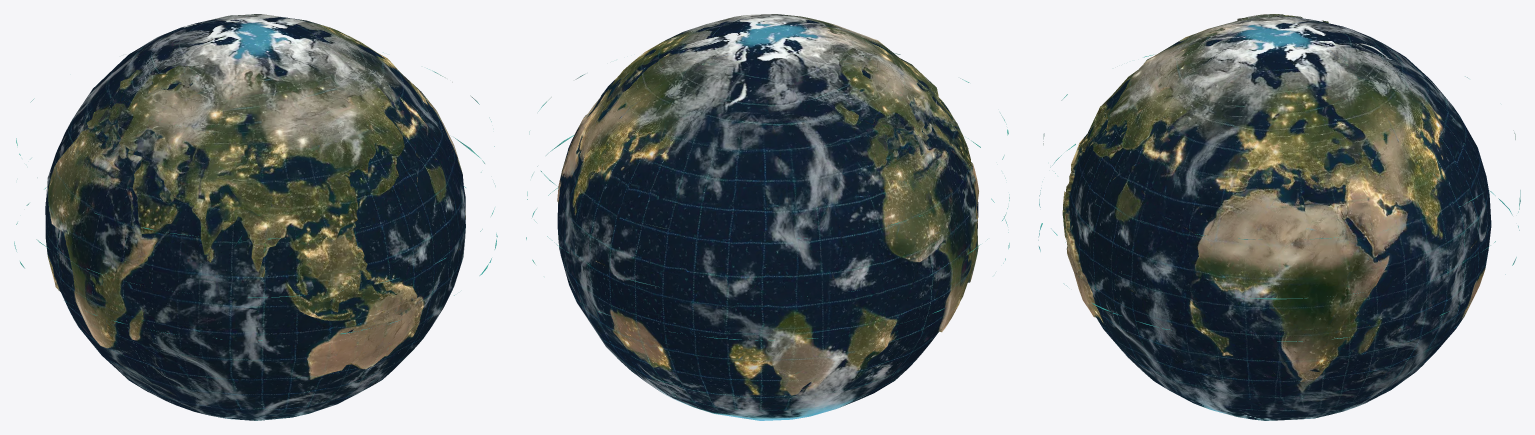
File: earth_intelhub.glb
3 views of the same model, side by side, from view 1: azimuth 30°, elevation 25°; view 2: azimuth 150°, elevation 25°; view 3: azimuth 270°, elevation 25° (orthographic).
Bounding box in the file's own units: 1.9 × 1.58 × 1.9.
Materials: 1 (1 with a texture image).
